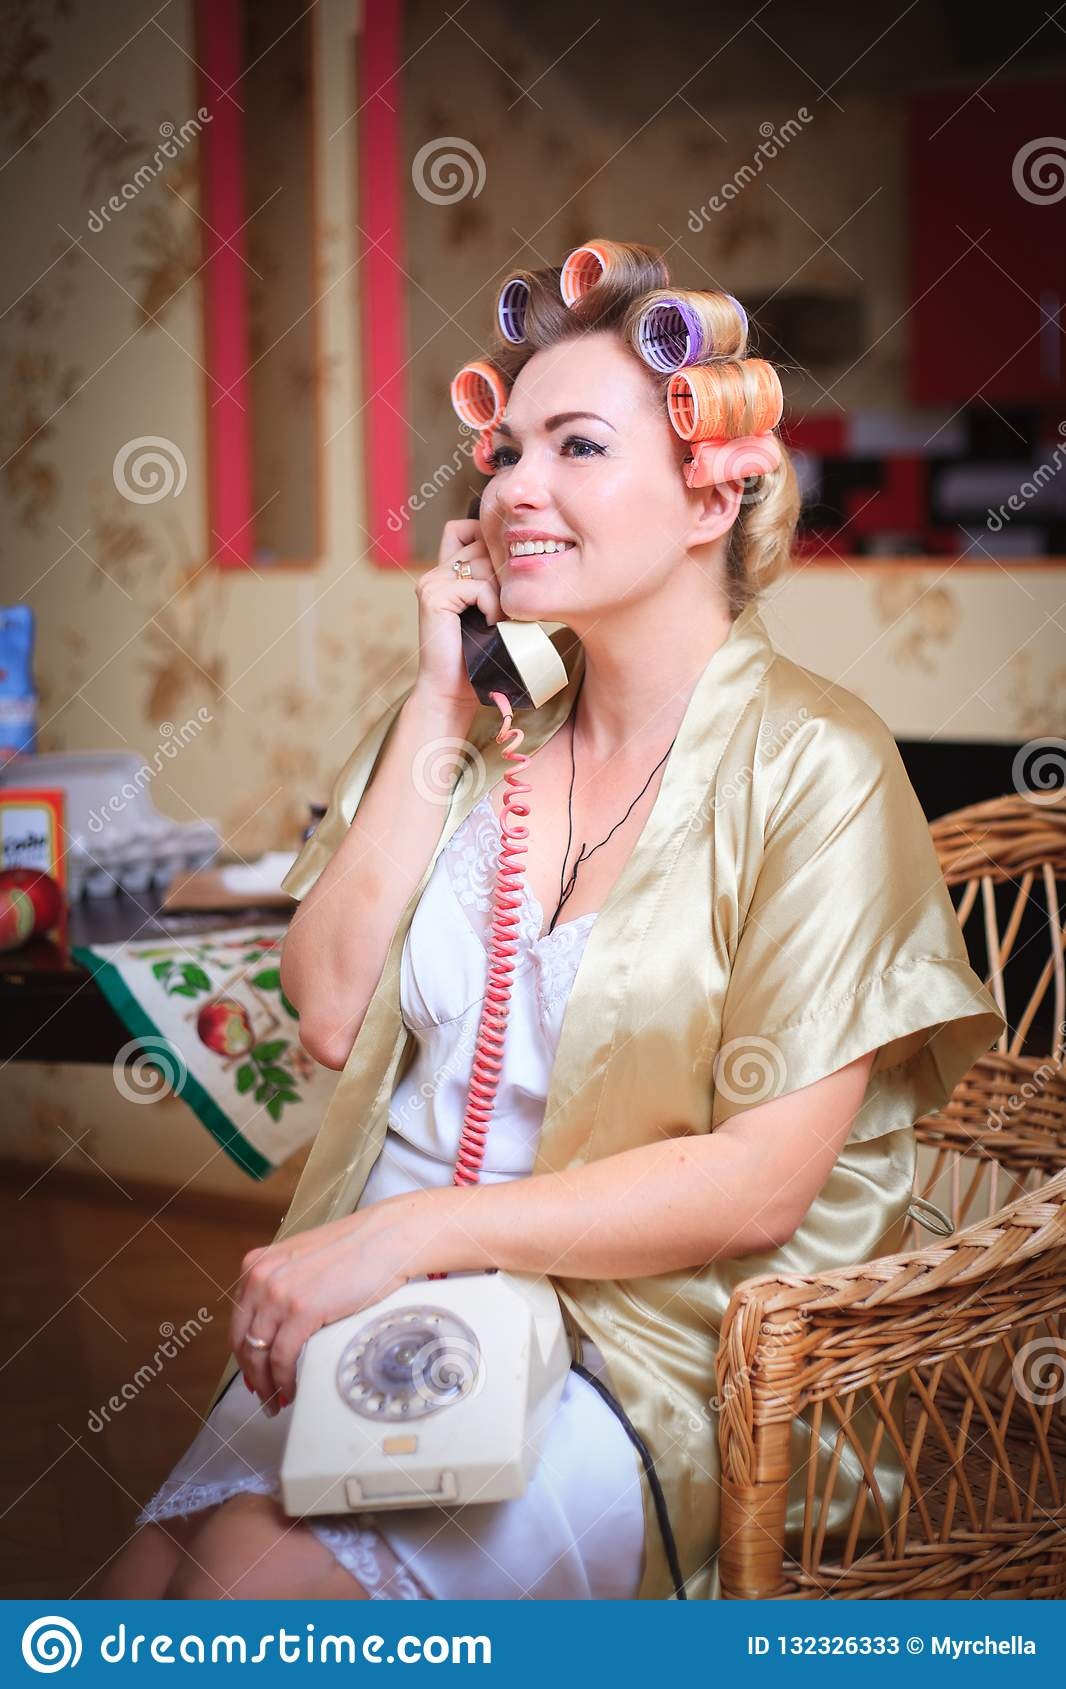phone: (454, 489, 515, 702)
talk: (410, 406, 623, 736)
